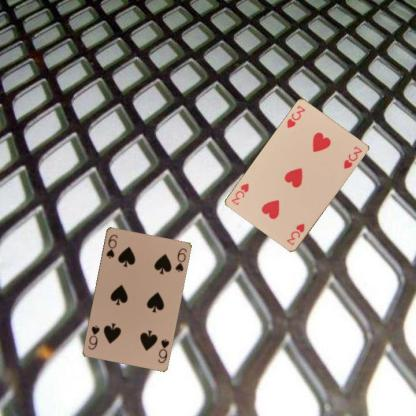3h: (284, 221, 306, 247), (284, 103, 306, 129)
6s: (156, 336, 170, 364), (104, 232, 118, 259)
